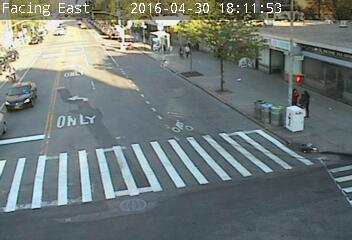neg: (302, 138, 320, 161), (178, 117, 195, 140), (310, 183, 326, 205), (140, 102, 156, 124), (231, 134, 245, 152), (38, 50, 51, 68), (98, 121, 111, 139), (54, 16, 67, 33), (256, 41, 269, 58), (102, 68, 114, 85), (128, 34, 139, 49), (229, 78, 240, 93), (154, 66, 165, 81), (2, 64, 13, 78), (19, 95, 28, 106)
pos: (294, 87, 317, 117), (286, 85, 302, 107), (174, 41, 187, 58), (183, 42, 192, 54)
